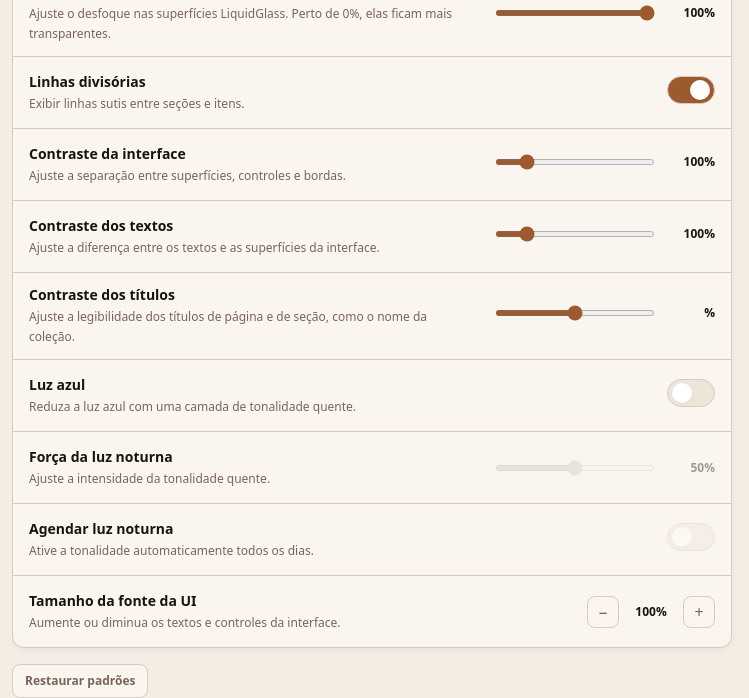
Test: controle de papel de parede em Aparencia › restaurar padroes devolve a opacidade sem apagar a imagem do usuario
The image size is (749, 698).
(page scrolled)
Step 1. Click the button "Restaurar padrões" → [80, 681], box top-left (12, 664), bottom-right (148, 697)
Wait 300 ms
(page scrolled)
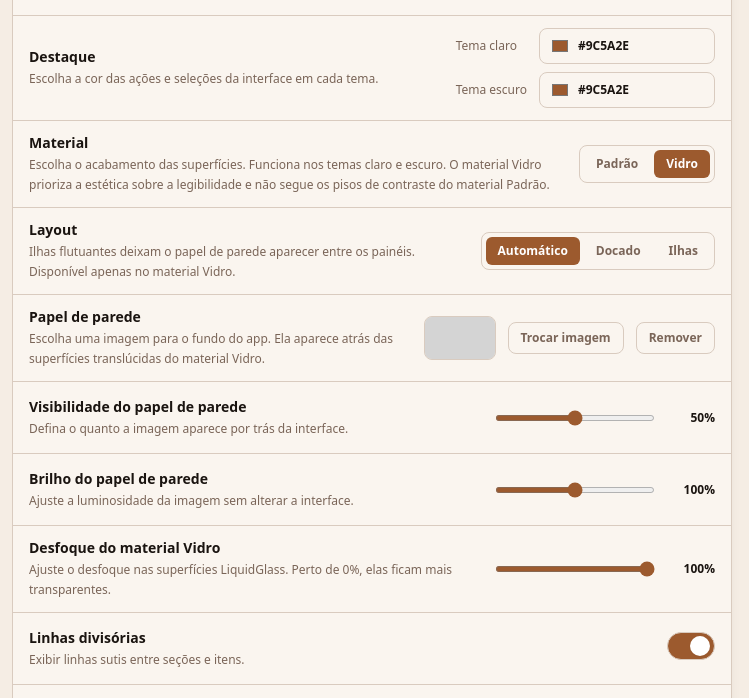
Result: the slider named "Visibilidade do papel de parede" holds "50" at top-left (495, 414), bottom-right (655, 420)
Result: the slider named "Brilho do papel de parede" holds "100" at top-left (495, 486), bottom-right (655, 492)
